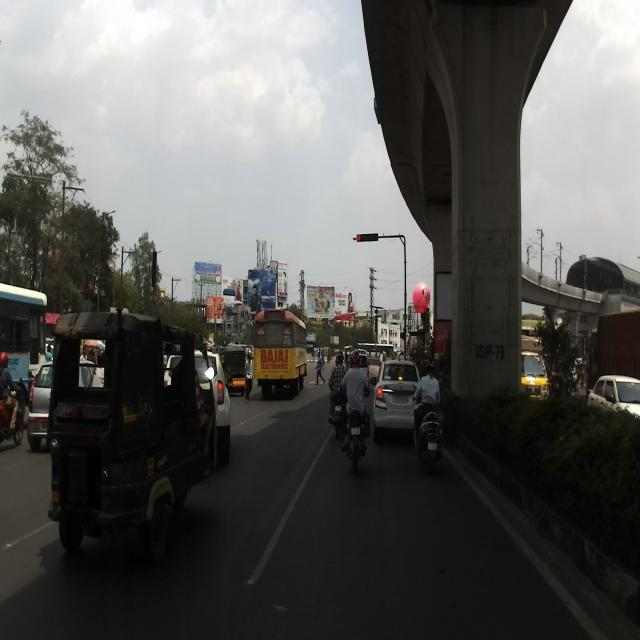Car_Maruti-Suzuki: (369, 356, 426, 437)
Car_Renault: (161, 344, 233, 472)
autorickshaw: (44, 306, 218, 563)
motorcycle_Honda: (338, 388, 368, 474)
truck: (514, 332, 552, 407)
